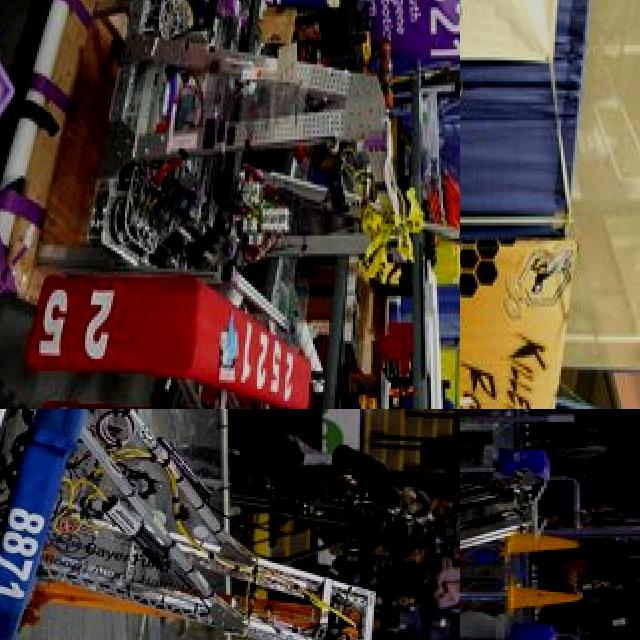FRC-Robots: (73, 0, 460, 347), (0, 409, 387, 640), (460, 416, 559, 640)
